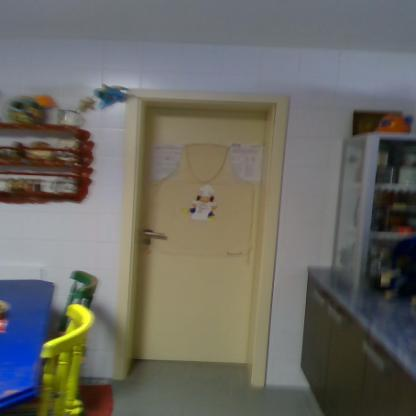door: (148, 108, 254, 362)
lever: (141, 228, 173, 243)
